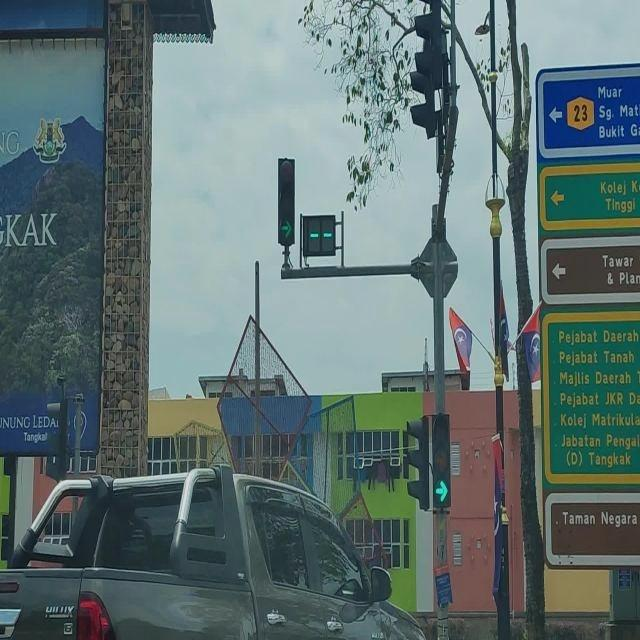Green: (432, 414, 451, 507), (277, 160, 295, 243)
